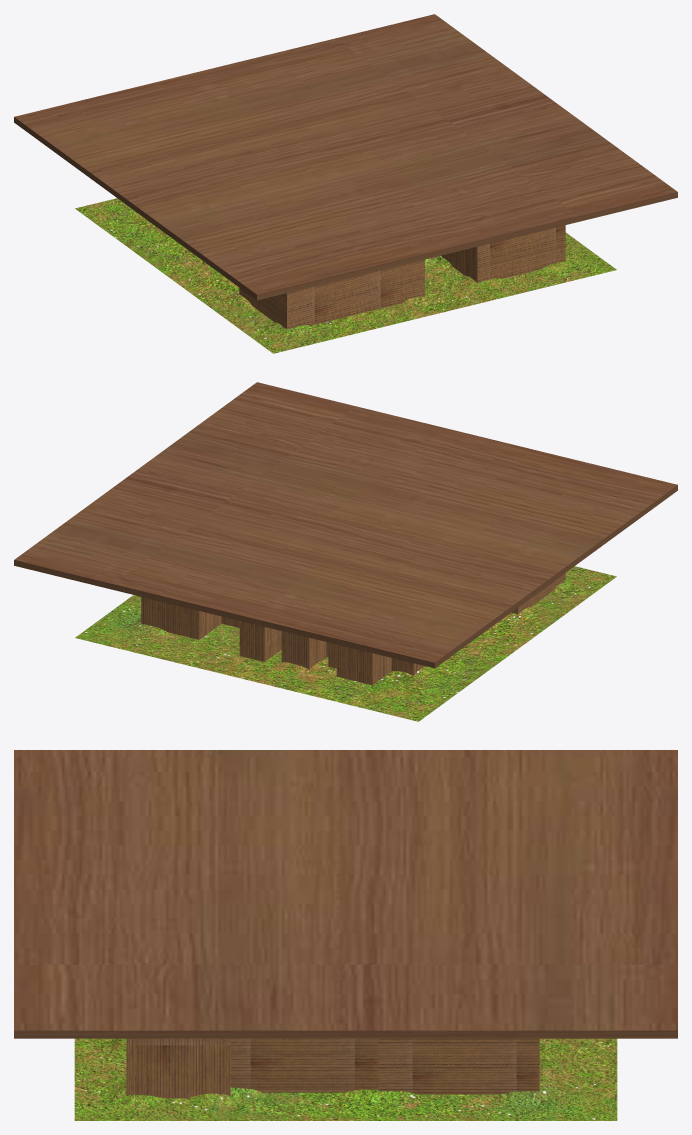
The model's file is map3.fbx.
The picture shows the model from 3 angles, top to bottom: view 1: azimuth 30°, elevation 25°; view 2: azimuth 150°, elevation 25°; view 3: azimuth 270°, elevation 25°; orthographic projection. The views are drawn at different scales.
Parts seen in each view (by area): view 1: Cube, Dirt, Walls; view 2: Cube, Dirt, Walls; view 3: Cube, Walls, Dirt.
Boxes of the visible parts, <box> form: Cube: <box>14,14,677,300</box>; Dirt: <box>75,198,616,353</box>; Walls: <box>239,225,565,329</box>; Cube: <box>14,382,677,668</box>; Dirt: <box>75,566,616,721</box>; Walls: <box>141,573,565,685</box>; Cube: <box>14,750,677,1038</box>; Walls: <box>126,1038,539,1098</box>; Dirt: <box>74,1038,617,1120</box>.
Size of the model in its own units: 9588 by 1846 by 9588.
